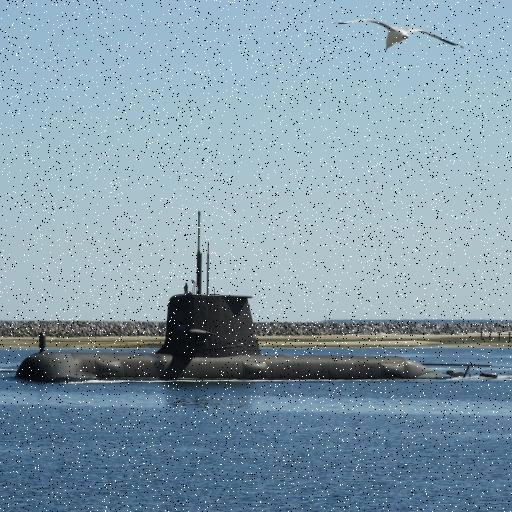submarine: (14, 208, 500, 382)
